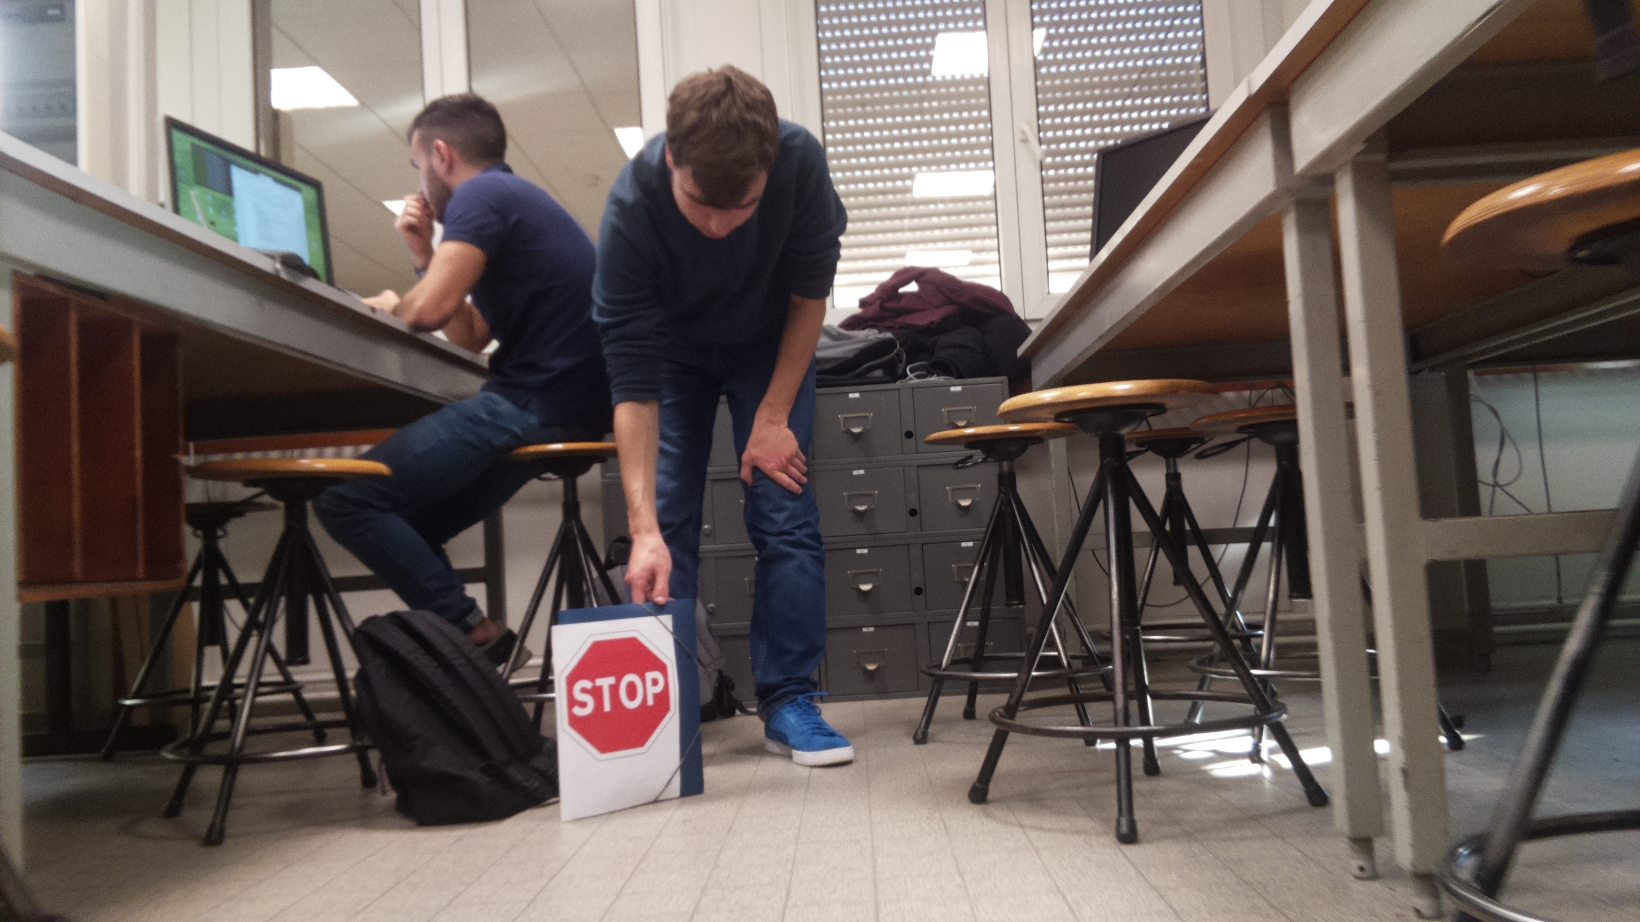stop: (558, 632, 674, 757)
